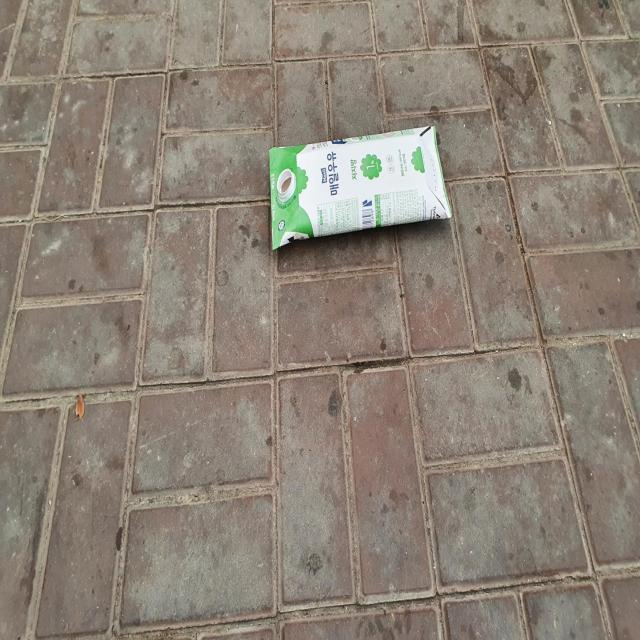paperpack: (269, 124, 452, 249)
